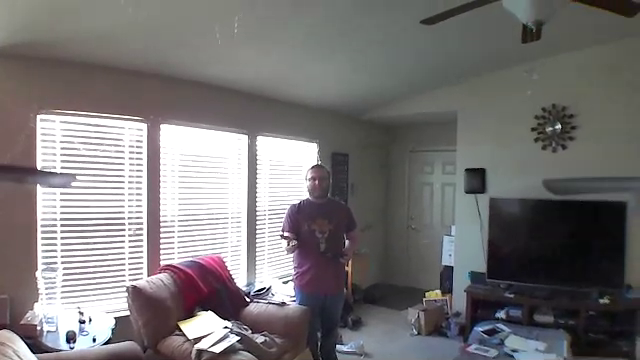land: (278, 232, 302, 251)
